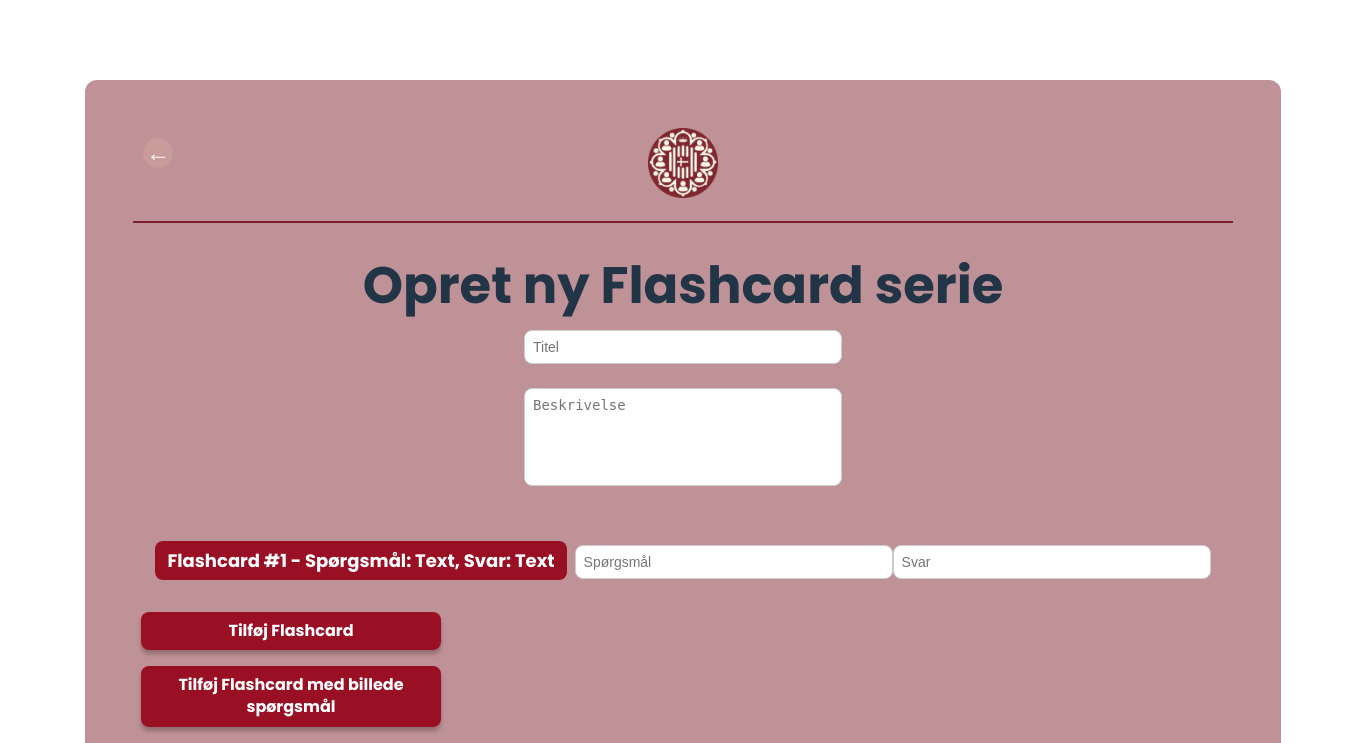
Test: CreateFlashcardCollection component › adds a new text flashcard when button is clicked
Click the button "Tilføj Flashcard": (291, 631) 141,612 -> 441,650
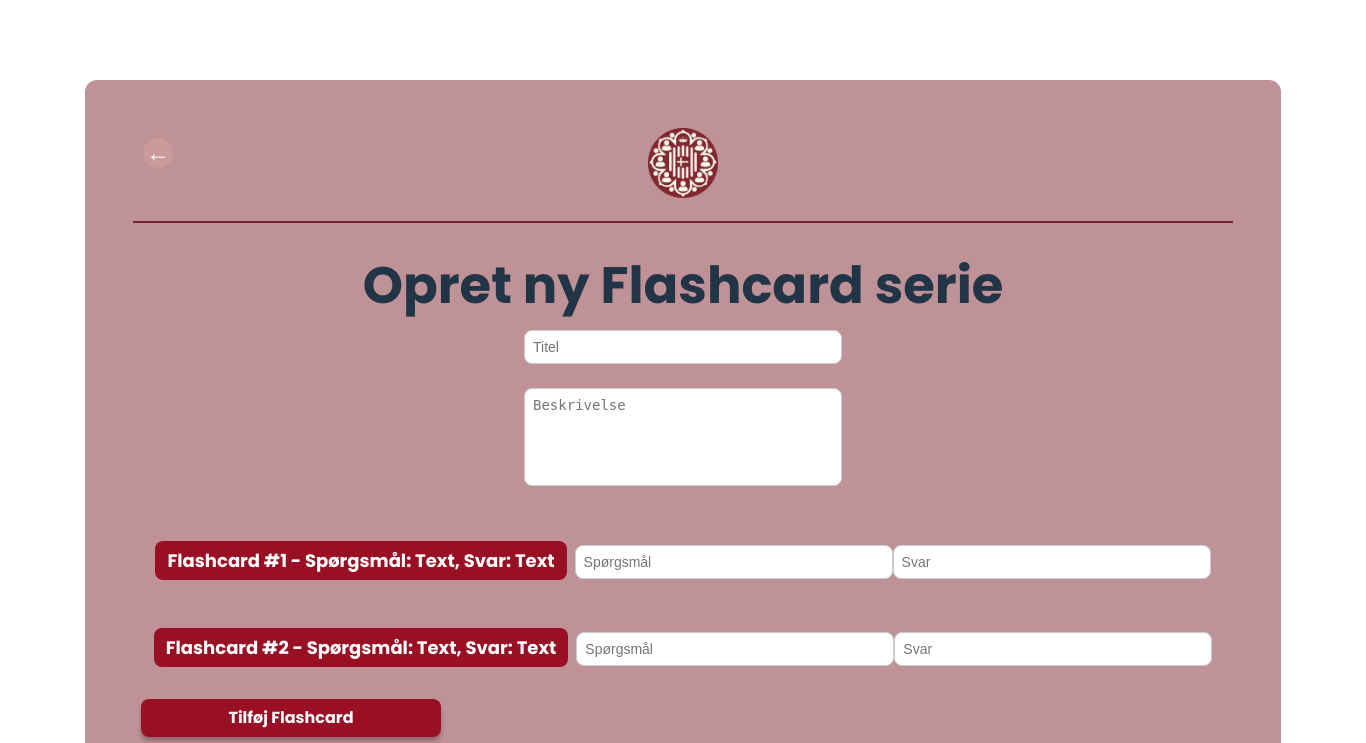
expect the number of fields with placeholder "Spørgsmål" is 2: met, box 574,545 -> 892,579; 576,632 -> 894,666
expect the number of fields with placeholder "Svar" is 2: met, box 892,545 -> 1210,579; 894,632 -> 1212,666
